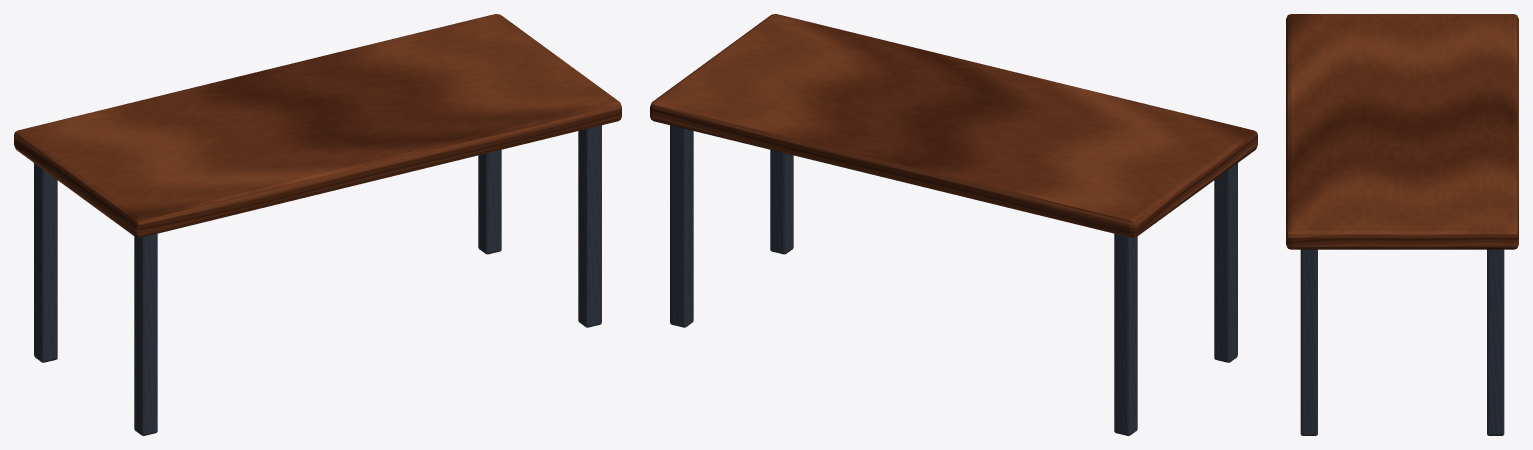
The model's file is Workbench.obj.
3 renders of one model, left to right at view 1: azimuth 30°, elevation 25°; view 2: azimuth 150°, elevation 25°; view 3: azimuth 270°, elevation 25°, orthographic. The views are drawn at different scales.
Visible parts, largest first — view 1: Walnut_Top, Steel_Leg, Steel_Leg.002, Steel_Leg.001, Steel_Leg.003; view 2: Walnut_Top, Steel_Leg.001, Steel_Leg.003, Steel_Leg, Steel_Leg.002; view 3: Walnut_Top, Steel_Leg.002, Steel_Leg.003.
Boxes of the visible parts, bbox=[...] form: Walnut_Top: bbox=[14, 14, 621, 237]; Steel_Leg: bbox=[134, 233, 157, 435]; Steel_Leg.002: bbox=[578, 125, 601, 327]; Steel_Leg.001: bbox=[34, 163, 57, 362]; Steel_Leg.003: bbox=[478, 150, 501, 254]; Walnut_Top: bbox=[650, 14, 1257, 237]; Steel_Leg.001: bbox=[1114, 233, 1137, 435]; Steel_Leg.003: bbox=[670, 125, 693, 327]; Steel_Leg: bbox=[1214, 163, 1237, 362]; Steel_Leg.002: bbox=[770, 150, 793, 254]; Walnut_Top: bbox=[1286, 14, 1518, 249]; Steel_Leg.002: bbox=[1300, 249, 1317, 435]; Steel_Leg.003: bbox=[1487, 249, 1504, 435].
Bounding box in the file's own units: 1.8 × 0.795 × 0.8.
